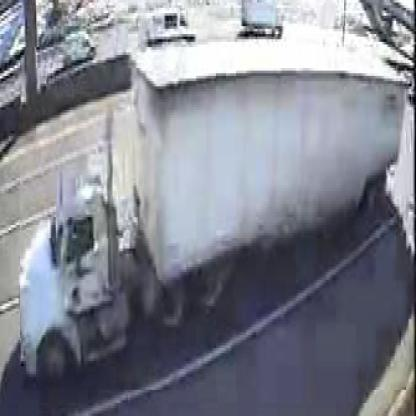container: (20, 48, 410, 394)
